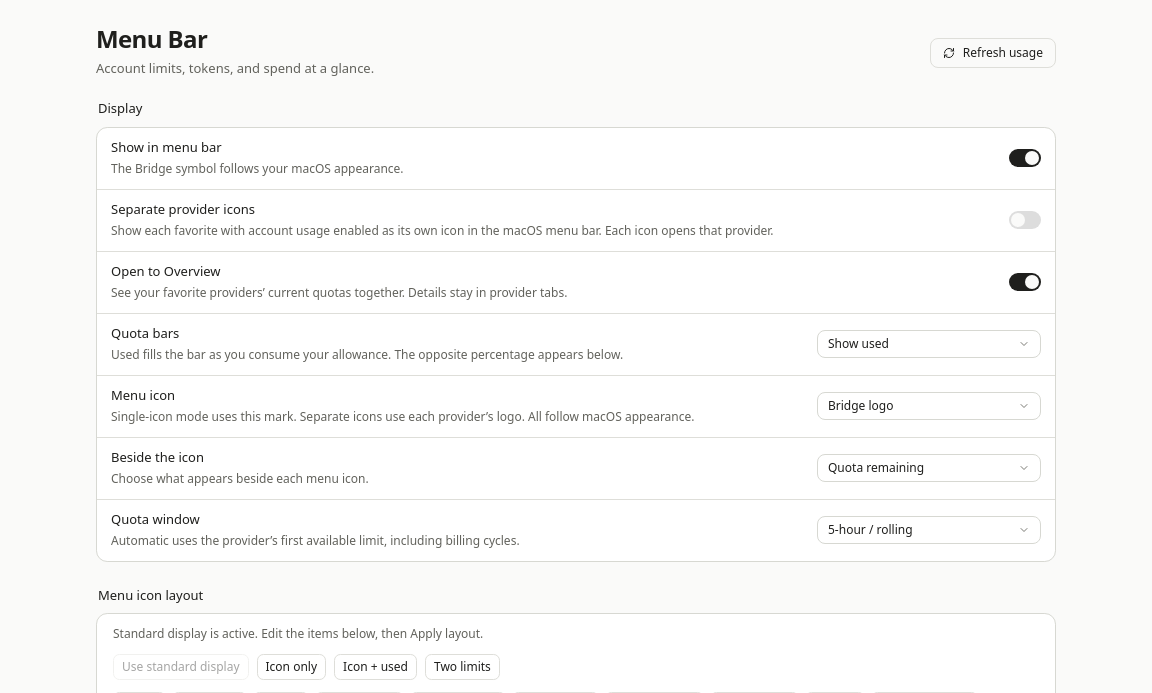
it: retains stored settings and reports a failed save
Click the switch named "Show in menu bar": [1025, 158] box [1009,149,1041,167]
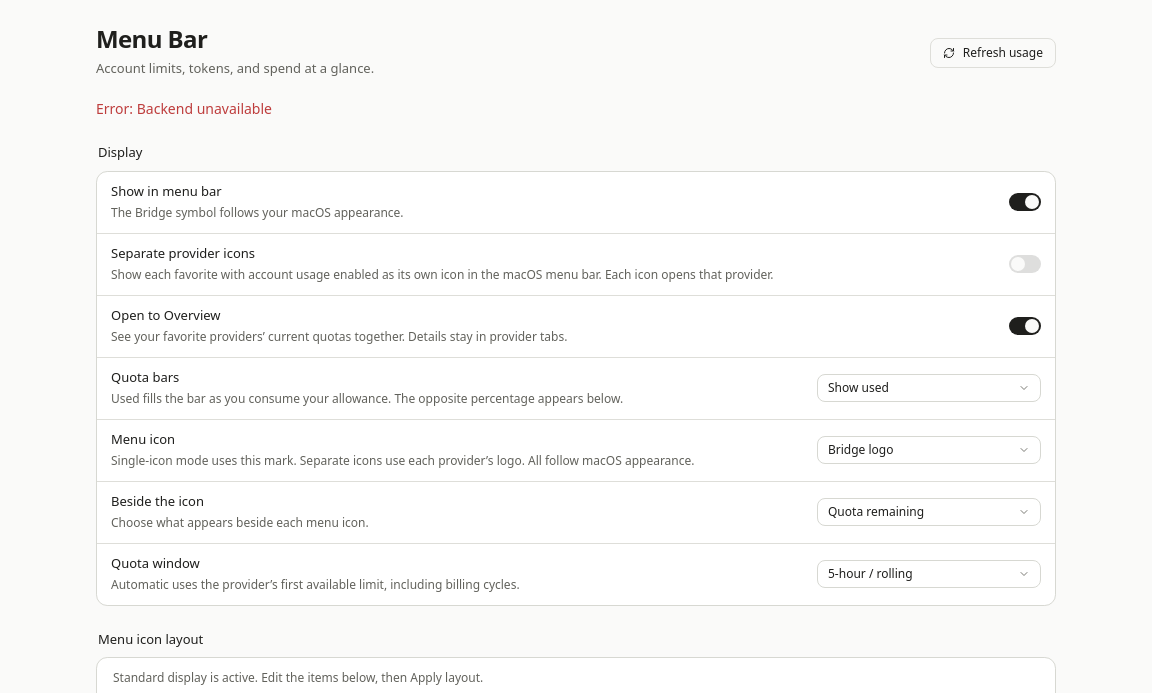
Expected: the switch named "Show in menu bar" is enabled, [1009,193,1041,211]
Expected: the message "Error: Backend unavailable" is shown, [96,99,272,118]
